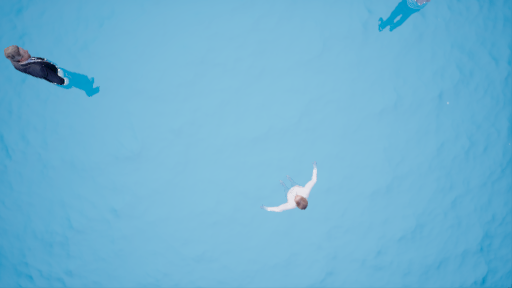person: (3, 34, 111, 104), (260, 161, 325, 216), (373, 1, 441, 34)
